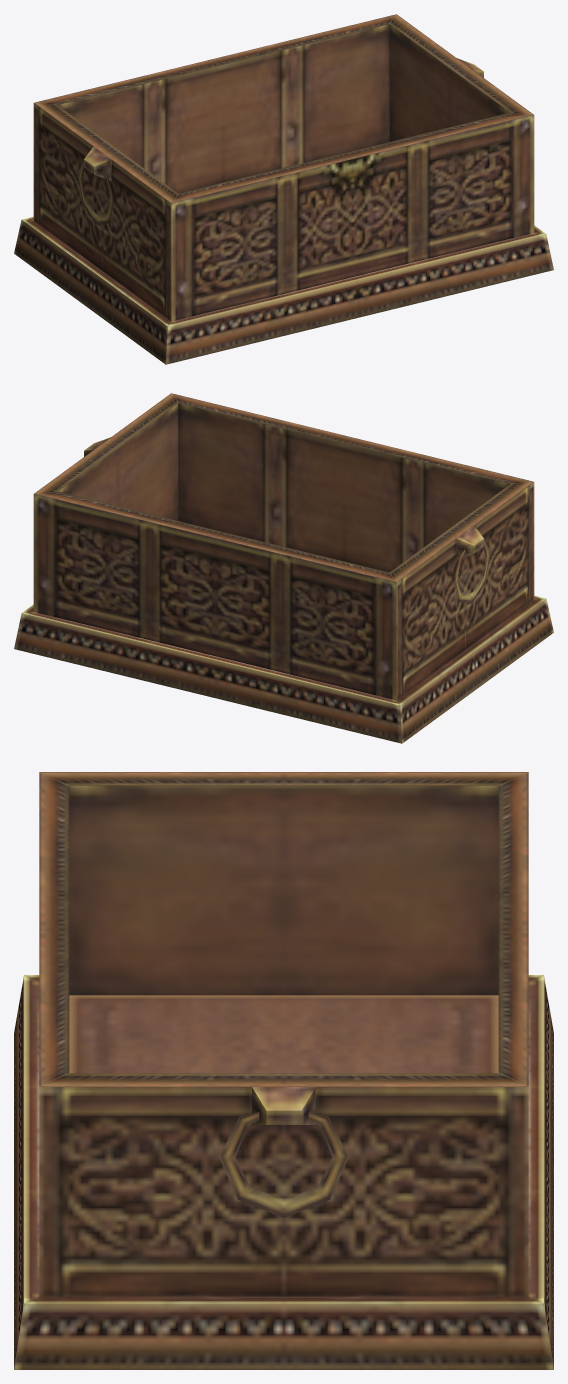
Rendered from dcfx_xiangz_02.FBX.
3 views of the same model, one above another, from view 1: azimuth 30°, elevation 25°; view 2: azimuth 150°, elevation 25°; view 3: azimuth 270°, elevation 25° (orthographic). The views are drawn at different scales.
Visible parts, largest first — view 1: dcfx_xiangz_02; view 2: dcfx_xiangz_02; view 3: dcfx_xiangz_02.
Part boxes in pixels (x1,y1,x2,y2): dcfx_xiangz_02: (14, 14, 553, 364); dcfx_xiangz_02: (14, 393, 553, 743); dcfx_xiangz_02: (14, 772, 553, 1369).
Size of the model in its own units: 172 by 64.37 by 116.
